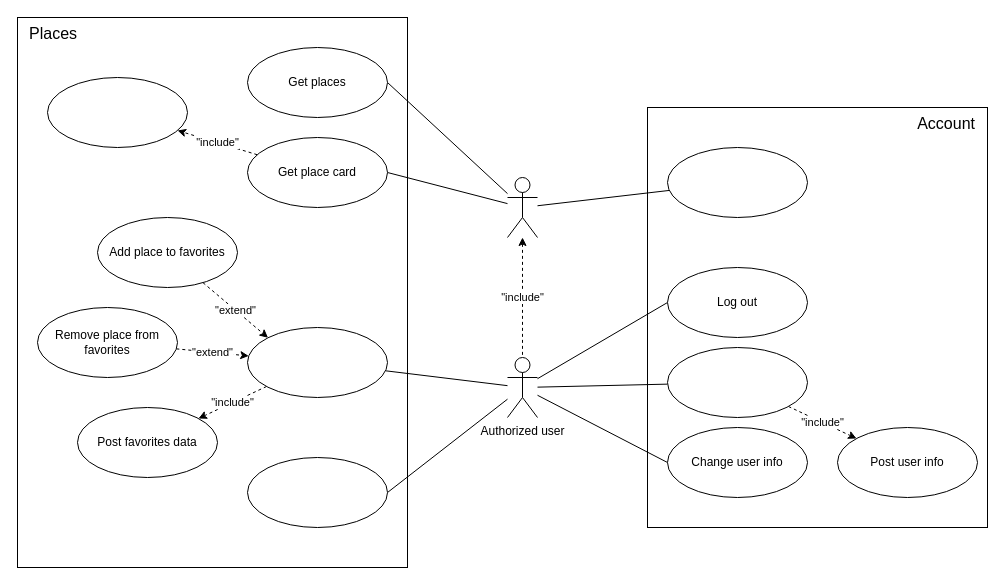
Some shapes in this 1005 by 585 pixel diagram are drawn without their labels. Each missing label, with the centre of its shape:
"Get favorites" goes at (x=317, y=362).
"Guest" goes at (x=522, y=207).
"Log in" goes at (x=737, y=382).
"Post place data" goes at (x=117, y=112).
"Sign up" goes at (x=737, y=182).
"Write review for place" goes at (x=317, y=492).
